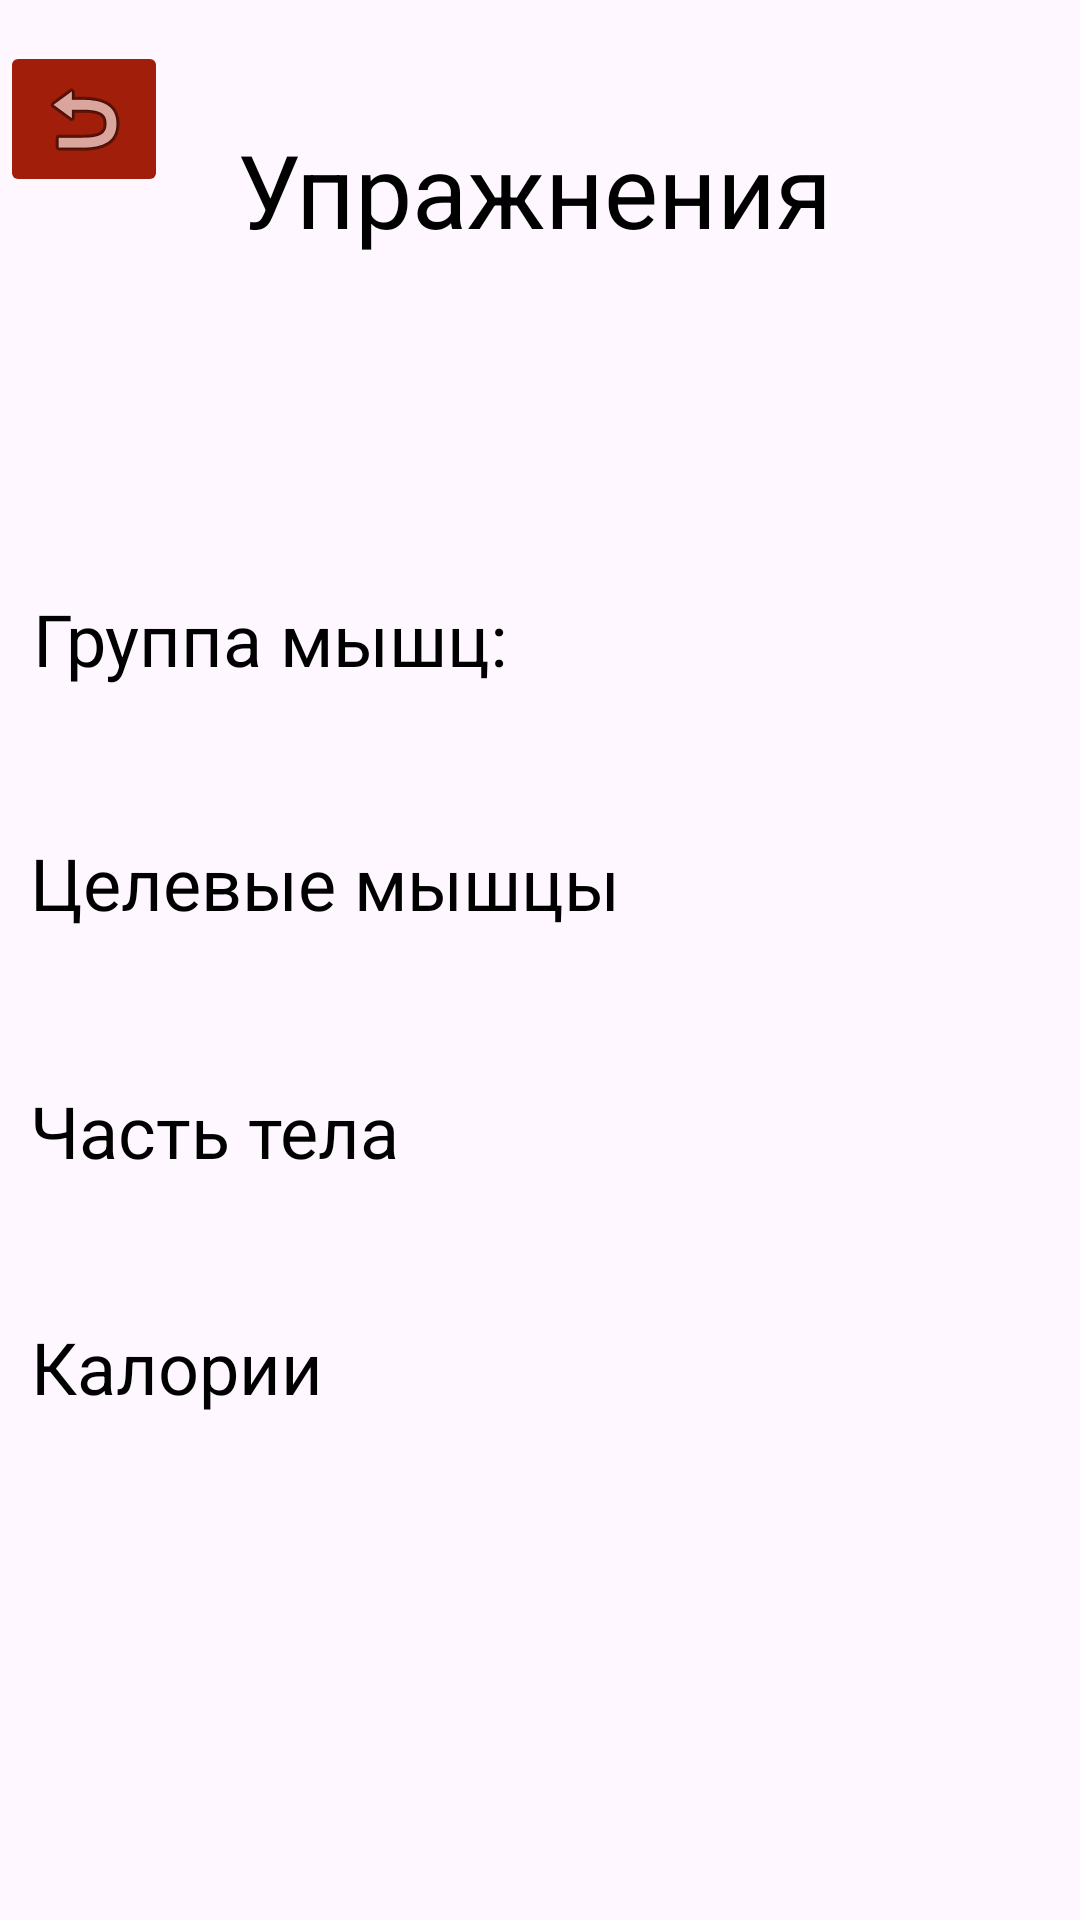

Point at icon controls on the screen. Image size 1080*1920, points as (x,y).
revert: (84,119)
